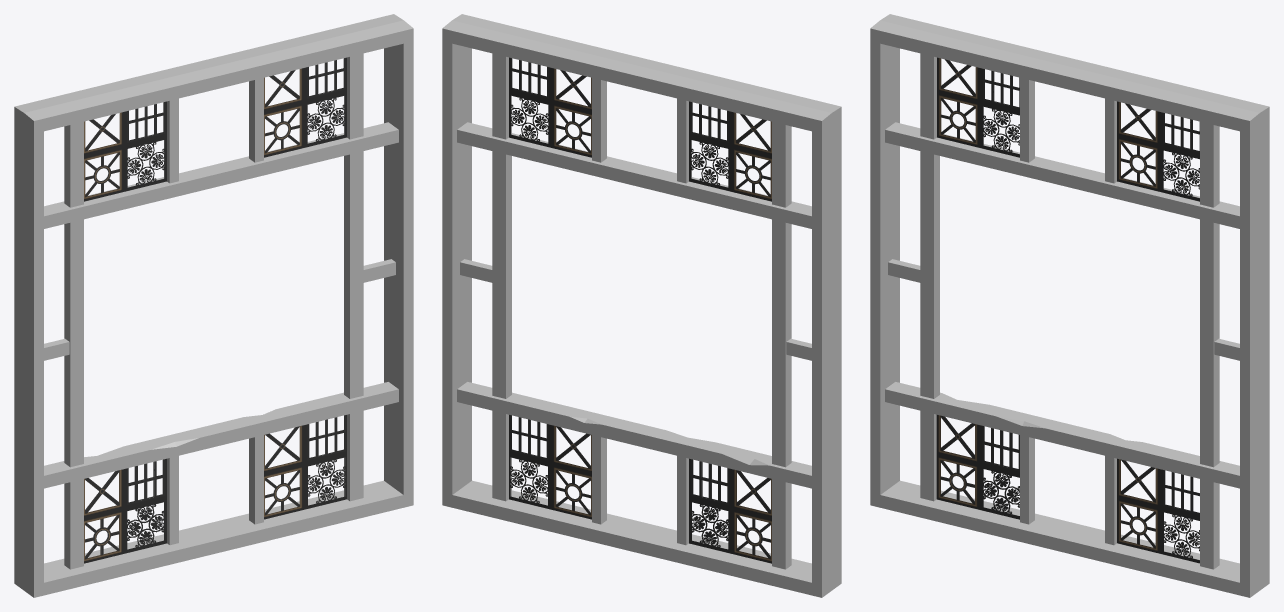
Rendered from SM_Bld_Wall_Balcony_02.fbx.
3 views of the same model, side by side, from view 1: azimuth 30°, elevation 25°; view 2: azimuth 150°, elevation 25°; view 3: azimuth 330°, elevation 25° (orthographic).
Visible parts, largest first — view 1: SM_Bld_Wall_Balcony_02; view 2: SM_Bld_Wall_Balcony_02; view 3: SM_Bld_Wall_Balcony_02.
Part boxes in pixels (x1=…): SM_Bld_Wall_Balcony_02: x1=14, y1=14, x2=413, y2=597; SM_Bld_Wall_Balcony_02: x1=442, y1=14, x2=841, y2=597; SM_Bld_Wall_Balcony_02: x1=870, y1=14, x2=1269, y2=597.
Size of the model in its own units: 250 by 301 by 22.5.
